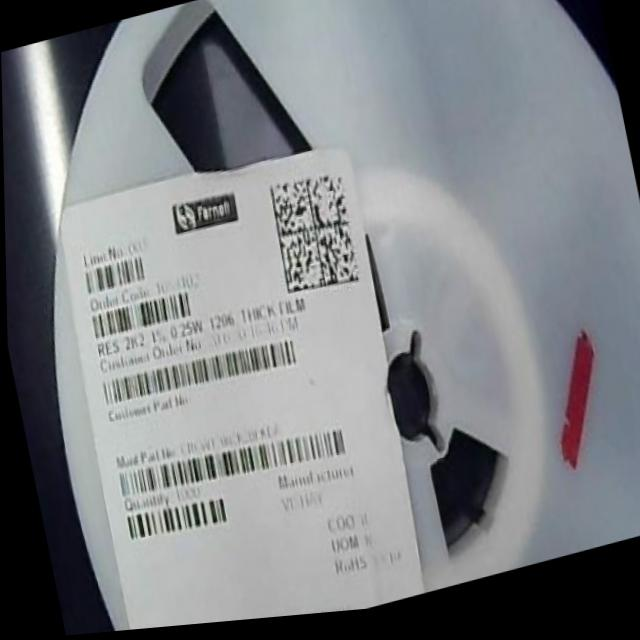datamatrix: (263, 166, 363, 310)
